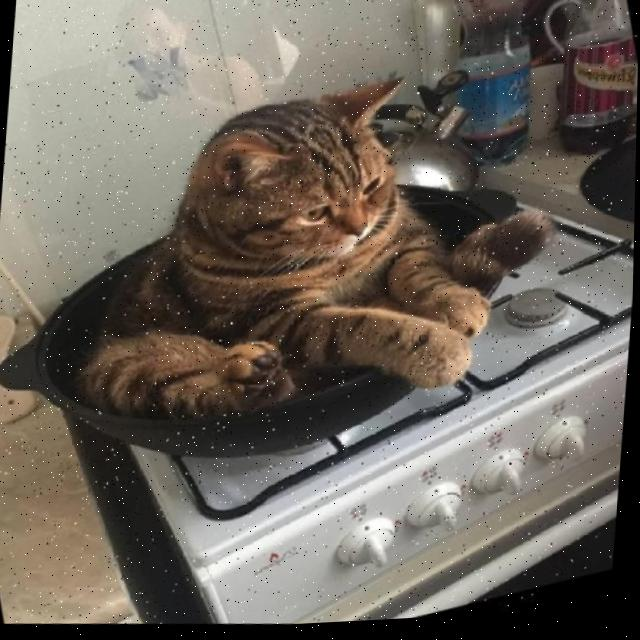Cats: (0, 21, 556, 512)
